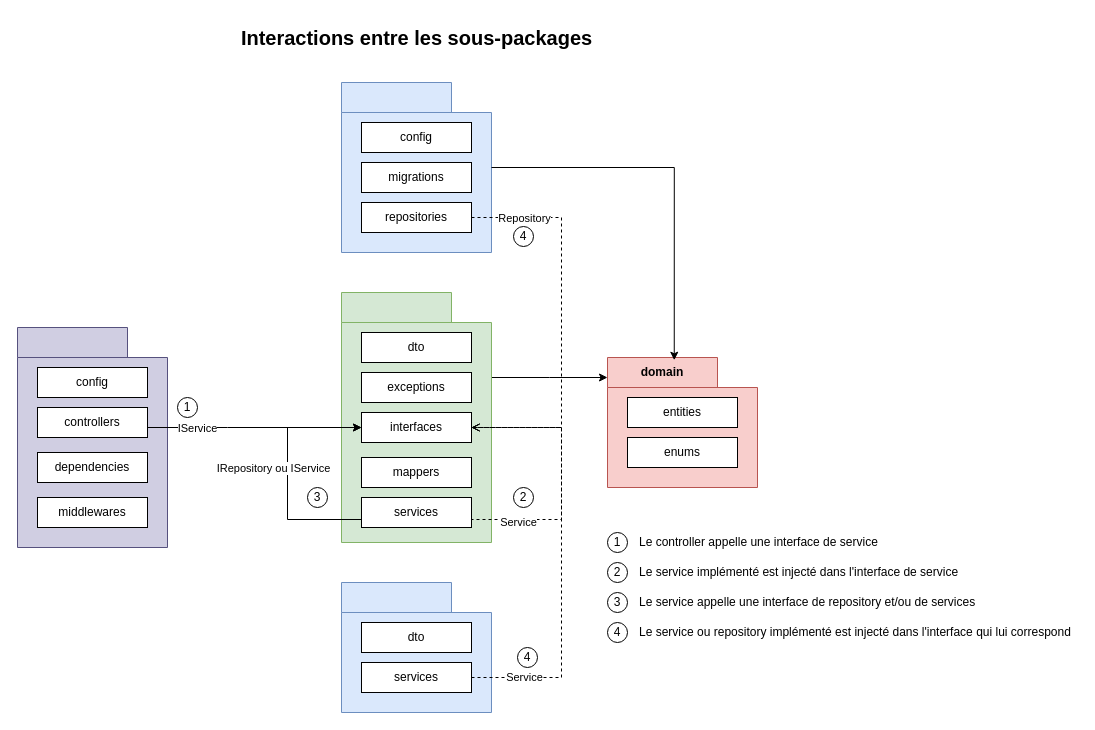
This 1095x730 diagram has some shape labels left out. The shapes that lost their labels are listed below. From the top down, each one's centre as x and y in pixels, then its label:
(x=416, y=167): persistance
(x=92, y=437): webapi
(x=416, y=417): application
(x=416, y=647): infrastructure
